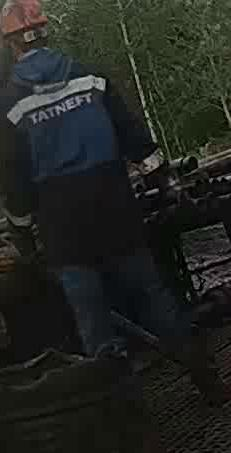gloves: (5, 209, 38, 261), (139, 152, 175, 194)
helmet: (0, 0, 53, 51)
vest: (0, 51, 119, 199)
